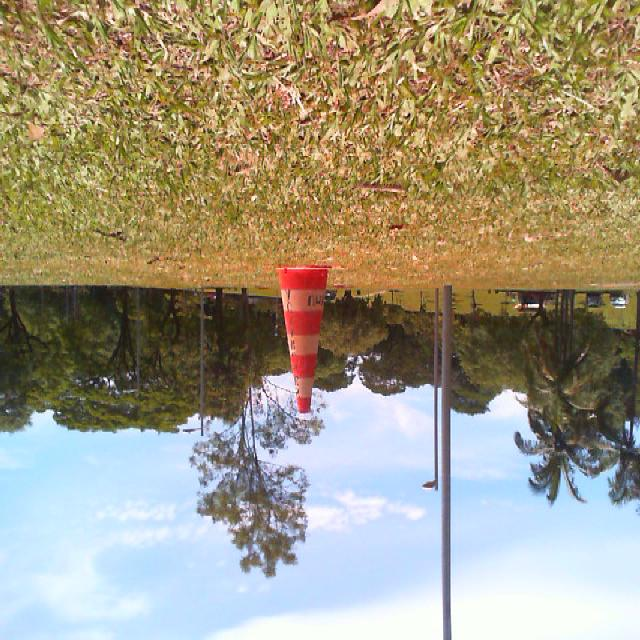cone: (276, 267, 331, 413)
